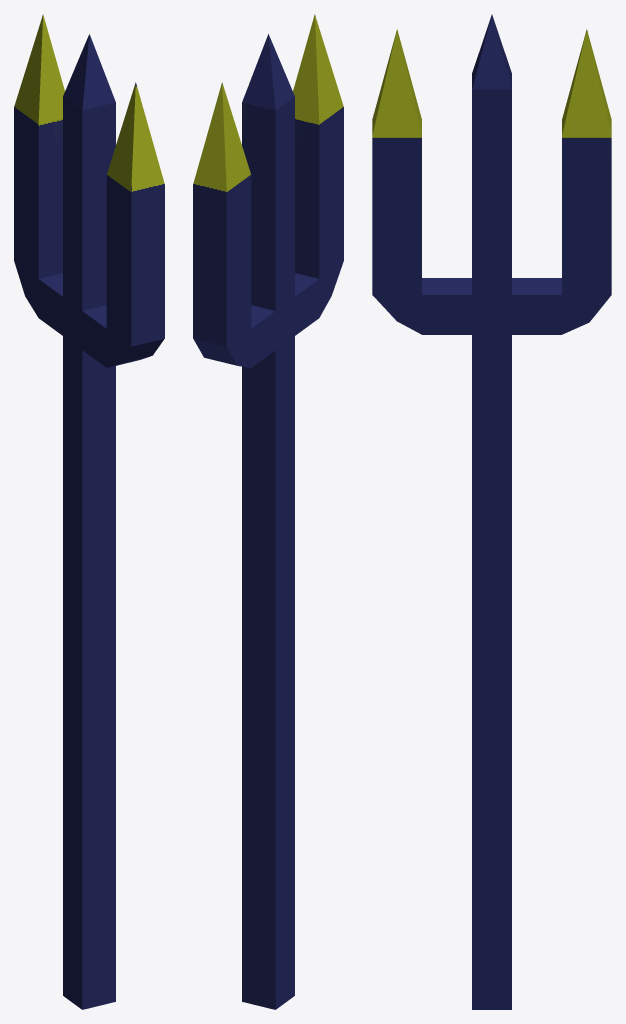
File: trident.glb
3 renders of one model, left to right at view 1: azimuth 30°, elevation 25°; view 2: azimuth 150°, elevation 25°; view 3: azimuth 270°, elevation 25°, orthographic. The views are drawn at different scales.
Parts seen in each view (by area): view 1: Cube; view 2: Cube; view 3: Cube.
Part boxes in pixels (<box>): Cube: <box>14,14,164,1009</box>; Cube: <box>193,14,343,1009</box>; Cube: <box>372,14,611,1009</box>.
Size of the model in its own units: 0.1688 by 4.63 by 1.02.
Materials: 1 (1 with a texture image).
